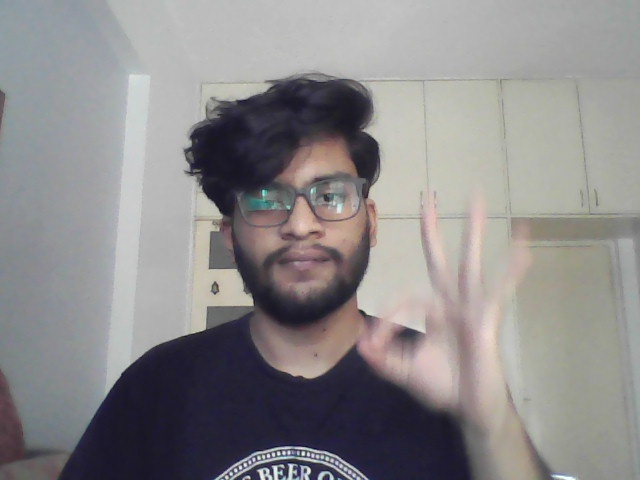Ok: (352, 190, 540, 425)
